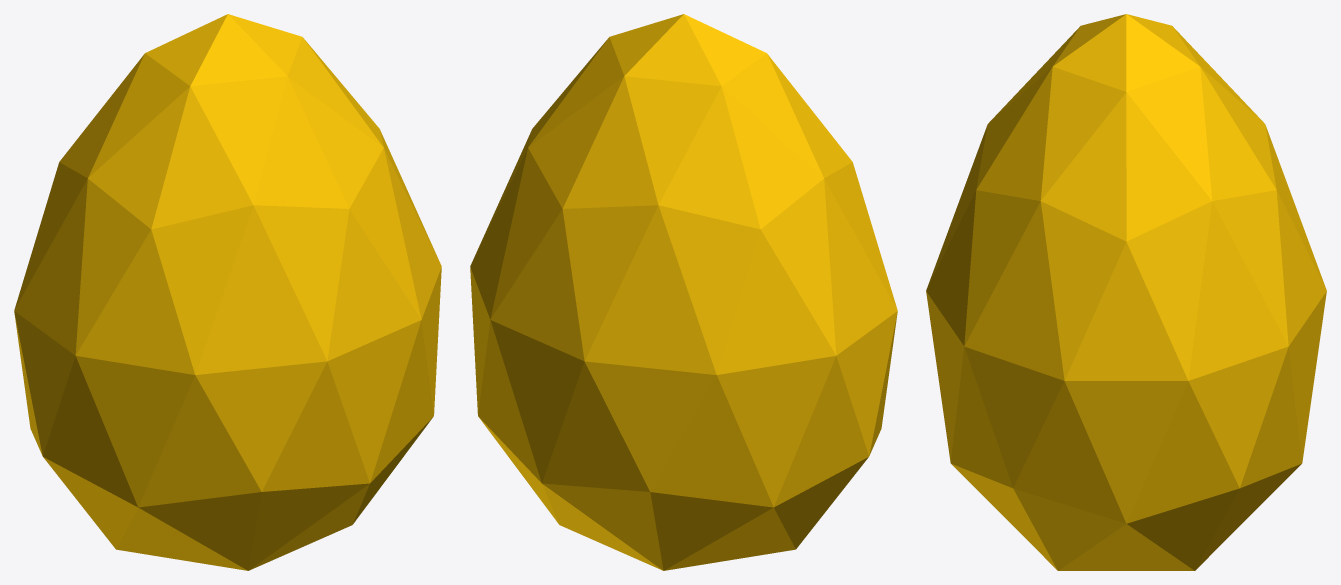
Rendered from Oocyste.fbx.
The picture shows the model from 3 angles, left to right: view 1: azimuth 30°, elevation 25°; view 2: azimuth 150°, elevation 25°; view 3: azimuth 270°, elevation 25°; orthographic projection.
Visible parts, largest first — view 1: Oocyste; view 2: Oocyste; view 3: Oocyste.
Part boxes in pixels (x1,y1,x2,y2): Oocyste: (14, 14, 441, 570); Oocyste: (470, 14, 897, 570); Oocyste: (926, 14, 1326, 570).
Size of the model in its own units: 8.42 by 12 by 7.87.
